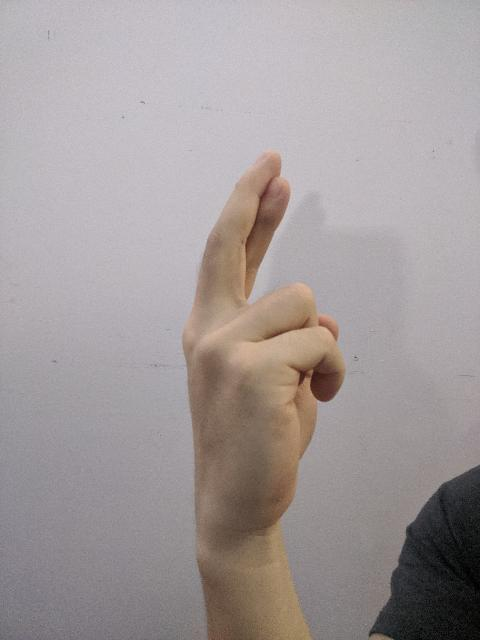R: (175, 144, 353, 540)
